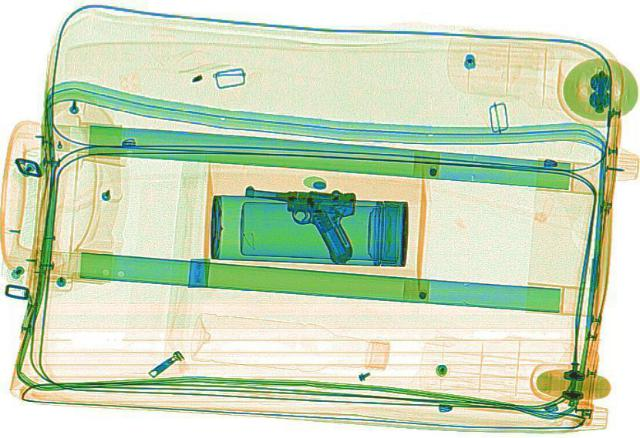Gun: (232, 183, 362, 263)
